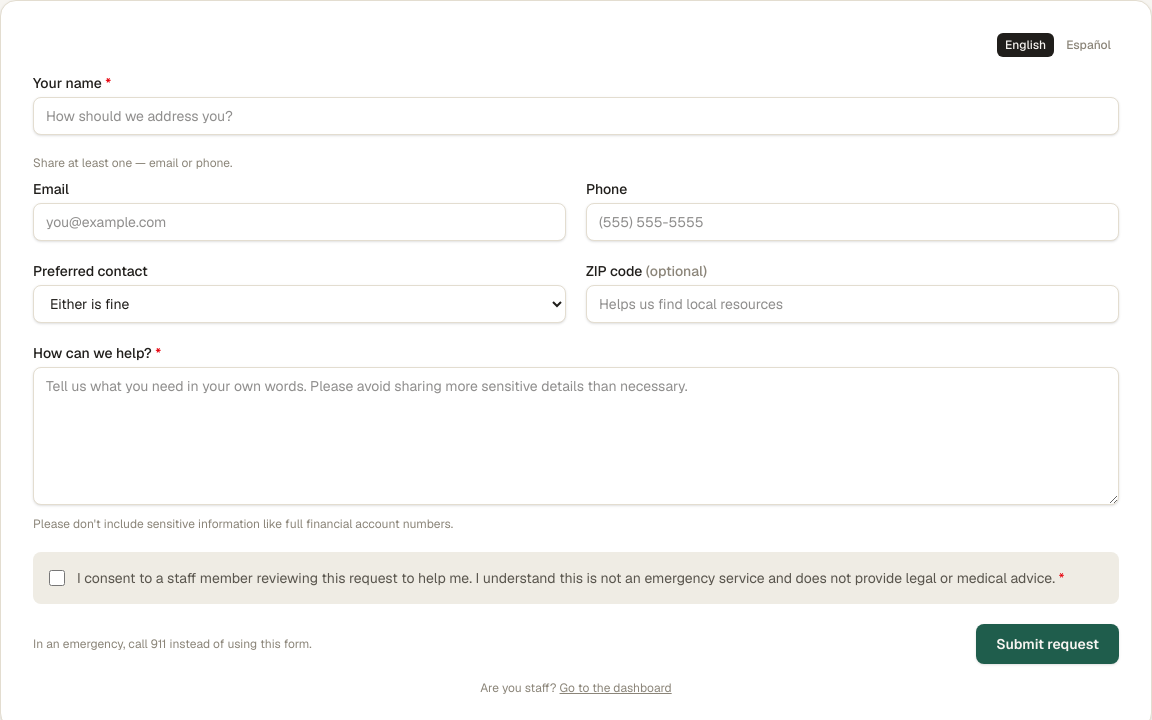
Scenario: IntakeForm › submits successfully and shows the confirmation screen
Type "Jordan Rivera" into the field labelled "Your name *" at (576, 116), box top-left (33, 97), bottom-right (1119, 135)
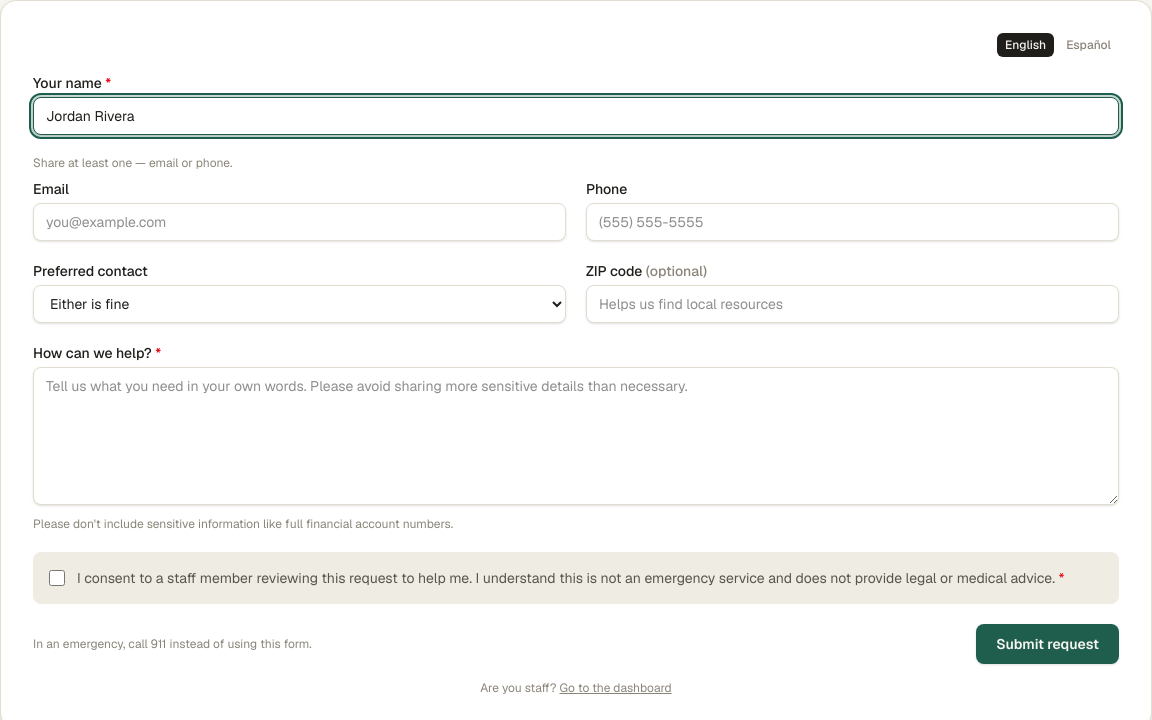
Type "jordan@example.com" into the field labelled "Email" at (300, 222), box top-left (33, 203), bottom-right (566, 241)
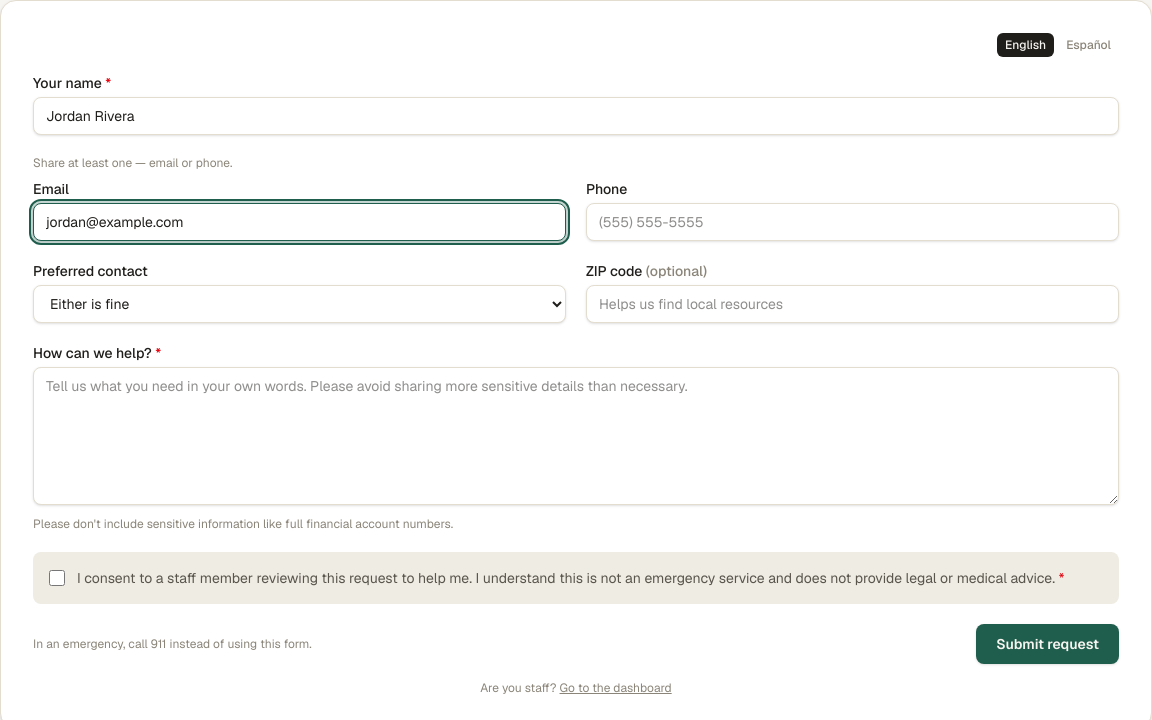
Type "Looking for help finding a food pantry near me." into the text box labelled "How can we help? *" at (576, 436), box top-left (33, 367), bottom-right (1119, 505)
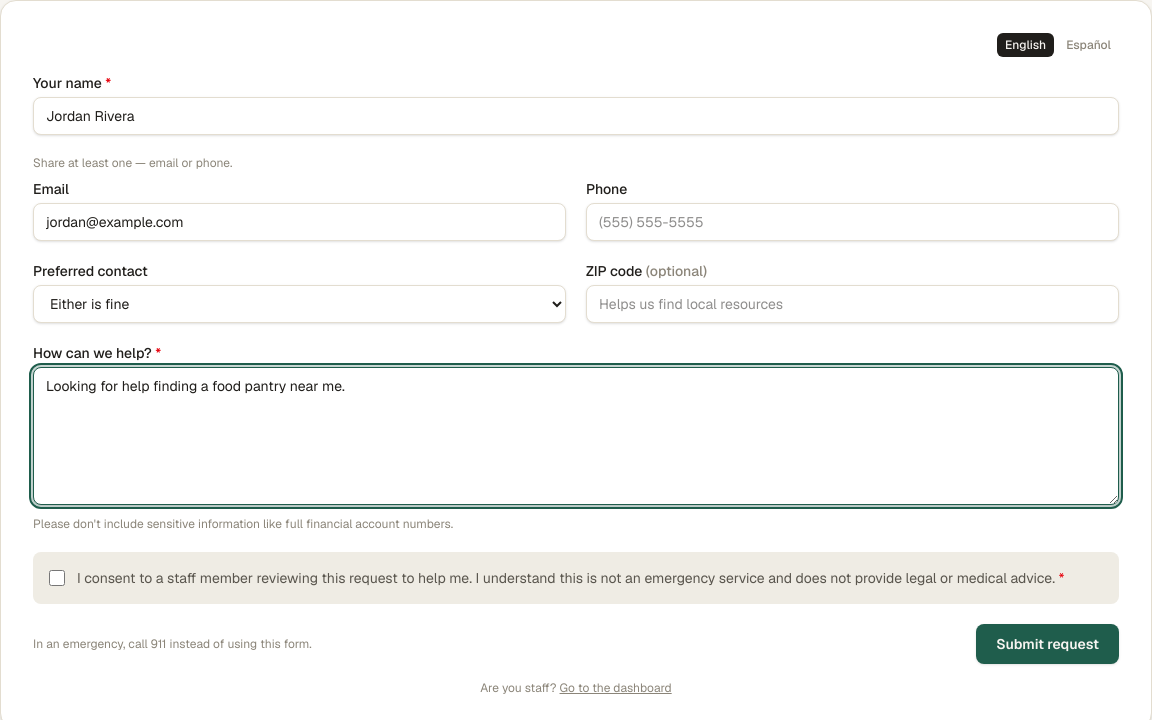
Click the checkbox labelled "I consent" at (57, 578), box top-left (49, 570), bottom-right (65, 586)
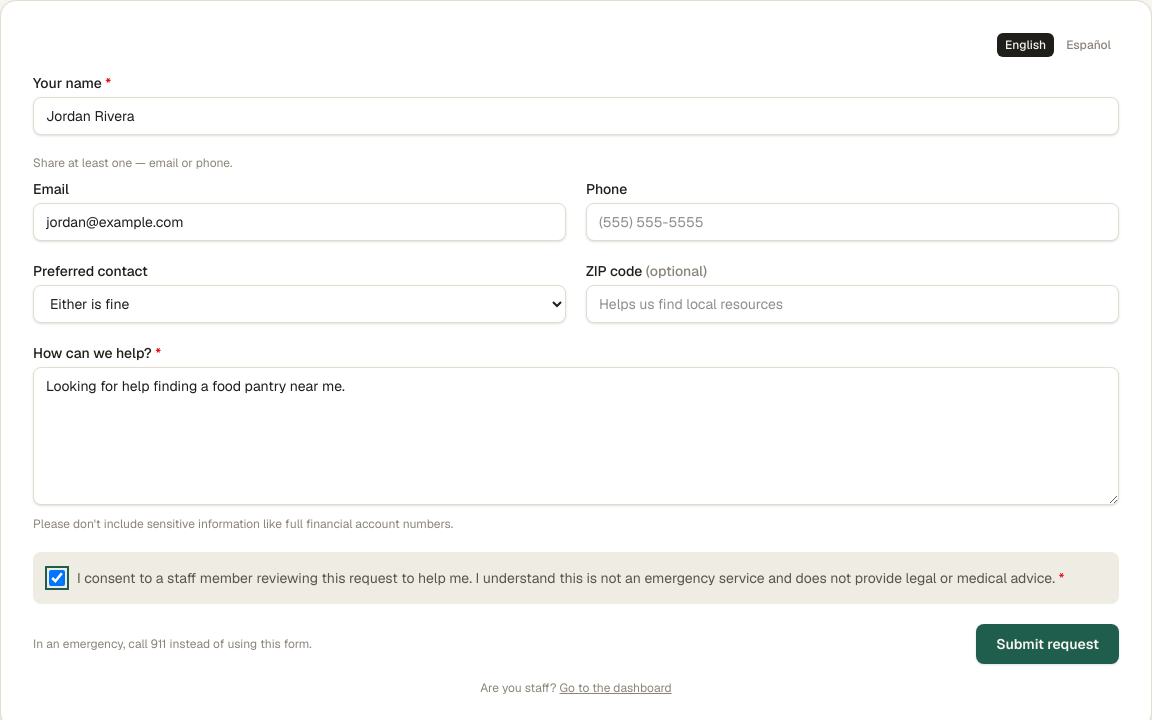
Click the button "Submit request" at (1048, 644), box top-left (976, 624), bottom-right (1119, 664)
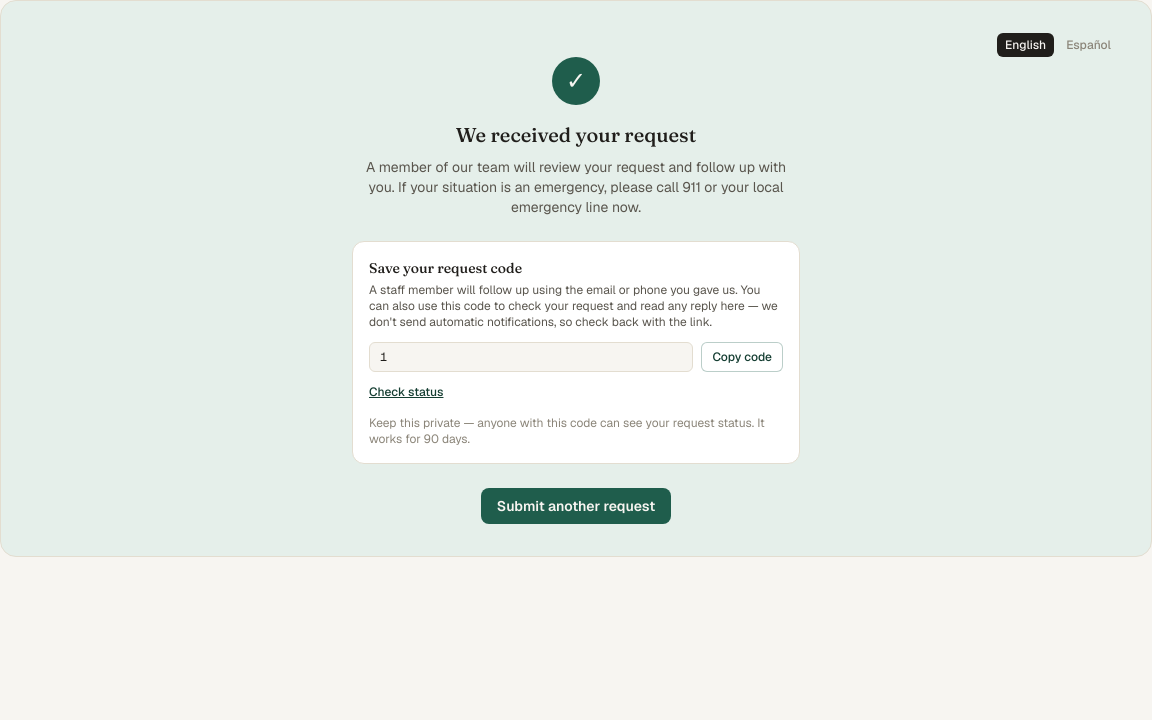
Check: the heading "We received your request" is shown, box top-left (456, 122), bottom-right (696, 147)
